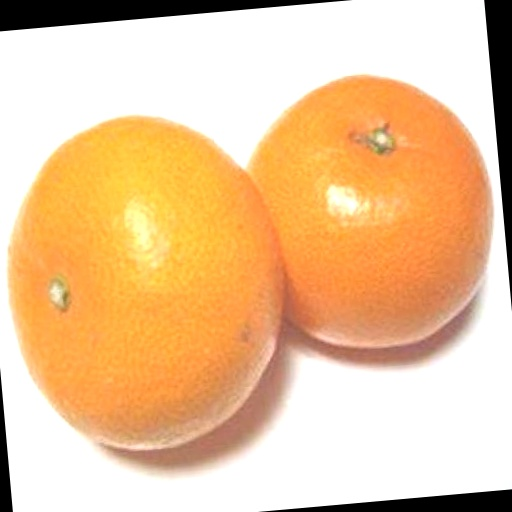fruit: (8, 117, 281, 448), (249, 75, 492, 347)
